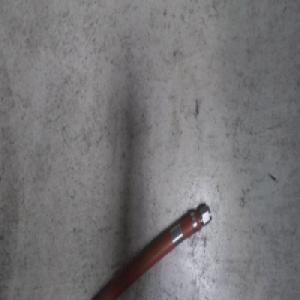Hose: (65, 200, 212, 300)
